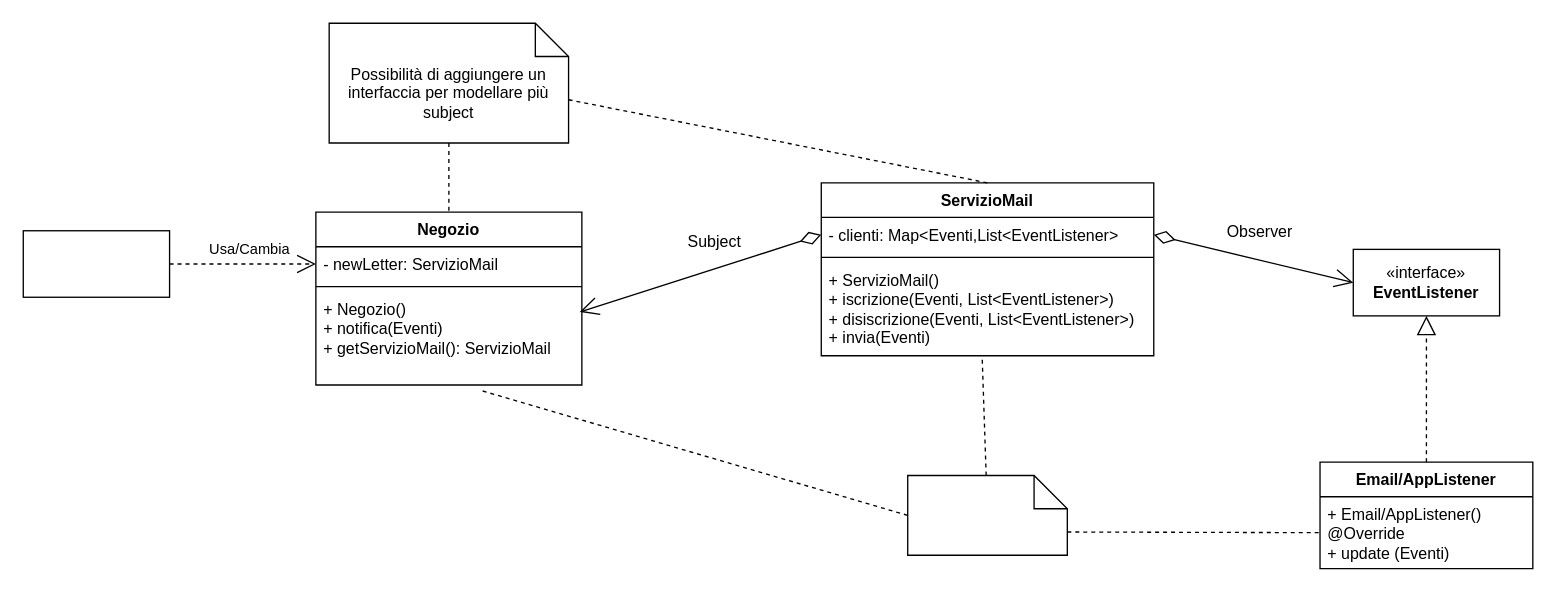
Image size: 1556x596. Some labels were removed from this diagram. Here are the shapes that lost their labels. From the top down, the centre of each, then its label:
point (96, 263): Client
point (986, 514): Eventi è un record
